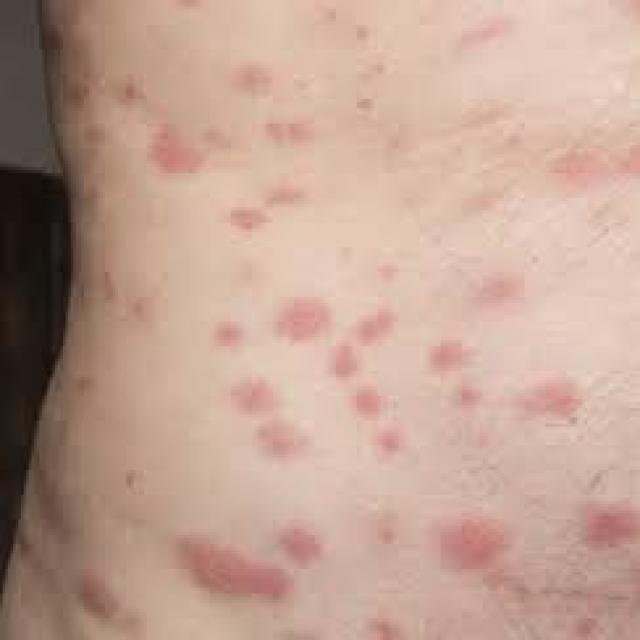kan emici bocekler: (179, 527, 296, 608), (435, 514, 514, 581), (425, 335, 485, 415), (577, 495, 638, 558), (279, 293, 340, 353), (147, 124, 210, 180), (527, 377, 591, 430), (254, 418, 312, 466), (229, 375, 283, 418), (369, 430, 416, 472), (260, 120, 316, 154), (221, 202, 266, 244), (236, 62, 277, 107), (280, 527, 323, 564), (208, 321, 252, 356), (264, 178, 305, 215), (350, 386, 387, 424)
